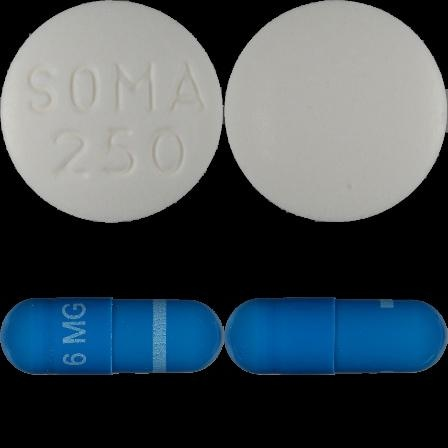16590-755: (0, 0, 224, 224)
